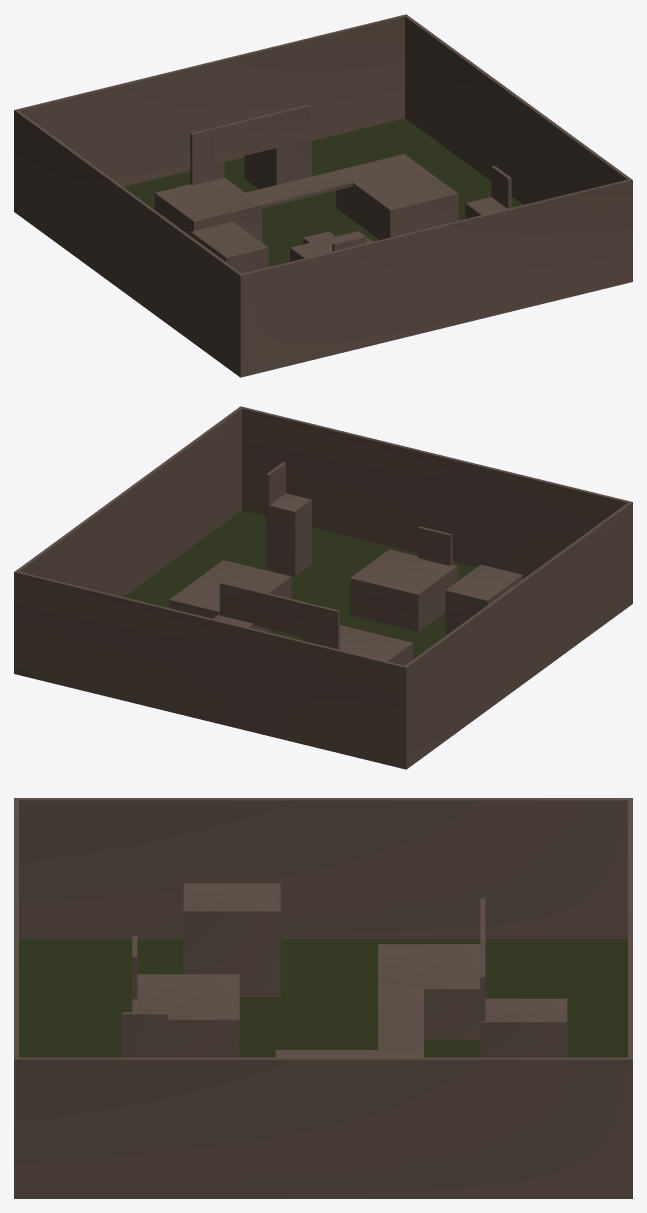
Rendered from level1_map.fbx.
3 views of the same model, one above another, from view 1: azimuth 30°, elevation 25°; view 2: azimuth 150°, elevation 25°; view 3: azimuth 270°, elevation 25° (orthographic). The views are drawn at different scales.
Visible parts, largest first — view 1: Wall__2_, Wall__3_, Wall, Wall__1_, Plane, Obstacle__10_, Obstacle__33_, Obstacle__34_, Obstacle__18_, Obstacle__8_, Obstacle__24_, Obstacle__7_ (+8 smaller); view 2: Wall__3_, Wall__2_, Wall, Wall__1_, Plane, Obstacle__10_, Obstacle__15_, Obstacle__33_, Obstacle__11_, Obstacle__17_, Obstacle__2_, Obstacle__21_ (+6 smaller); view 3: Wall__1_, Wall, Plane, Obstacle__16_, Obstacle__34_, Obstacle__11_, Obstacle__20_, Obstacle__27_, Obstacle__13_, Obstacle__8_, Obstacle__32_, Obstacle__22_ (+5 smaller).
Part boxes in pixels (x1,y1,x2,y2): Wall__2_: [239, 179, 632, 377]; Wall__3_: [15, 15, 407, 186]; Wall: [14, 109, 243, 377]; Wall__1_: [404, 14, 632, 204]; Plane: [124, 118, 522, 266]; Obstacle__10_: [212, 104, 310, 163]; Obstacle__33_: [341, 156, 452, 207]; Obstacle__34_: [160, 178, 254, 219]; Obstacle__18_: [336, 170, 393, 239]; Obstacle__8_: [241, 170, 352, 209]; Obstacle__24_: [392, 193, 455, 236]; Obstacle__7_: [190, 125, 224, 185]; Wall__3_: [14, 571, 407, 769]; Wall__2_: [239, 406, 632, 578]; Wall: [403, 502, 632, 769]; Wall__1_: [14, 406, 243, 596]; Plane: [124, 510, 476, 659]; Obstacle__10_: [219, 582, 317, 640]; Obstacle__15_: [353, 577, 416, 631]; Obstacle__33_: [174, 562, 285, 610]; Obstacle__11_: [355, 551, 451, 592]; Obstacle__17_: [269, 504, 293, 575]; Obstacle__2_: [415, 565, 457, 631]; Obstacle__21_: [292, 499, 311, 576]; Wall__1_: [14, 1057, 632, 1198]; Wall: [14, 798, 632, 939]; Plane: [19, 939, 627, 1057]; Obstacle__16_: [183, 909, 280, 997]; Obstacle__34_: [383, 946, 480, 987]; Obstacle__11_: [137, 976, 234, 1017]; Obstacle__20_: [480, 1020, 567, 1057]; Obstacle__27_: [383, 987, 480, 1040]; Obstacle__13_: [168, 1017, 239, 1057]; Obstacle__8_: [378, 986, 423, 1050]; Obstacle__32_: [188, 885, 275, 909]; Obstacle__22_: [122, 1012, 168, 1057].
Size of the model in its own units: 6050 by 1600 by 6050.
Materials: 1 (1 with a texture image).
